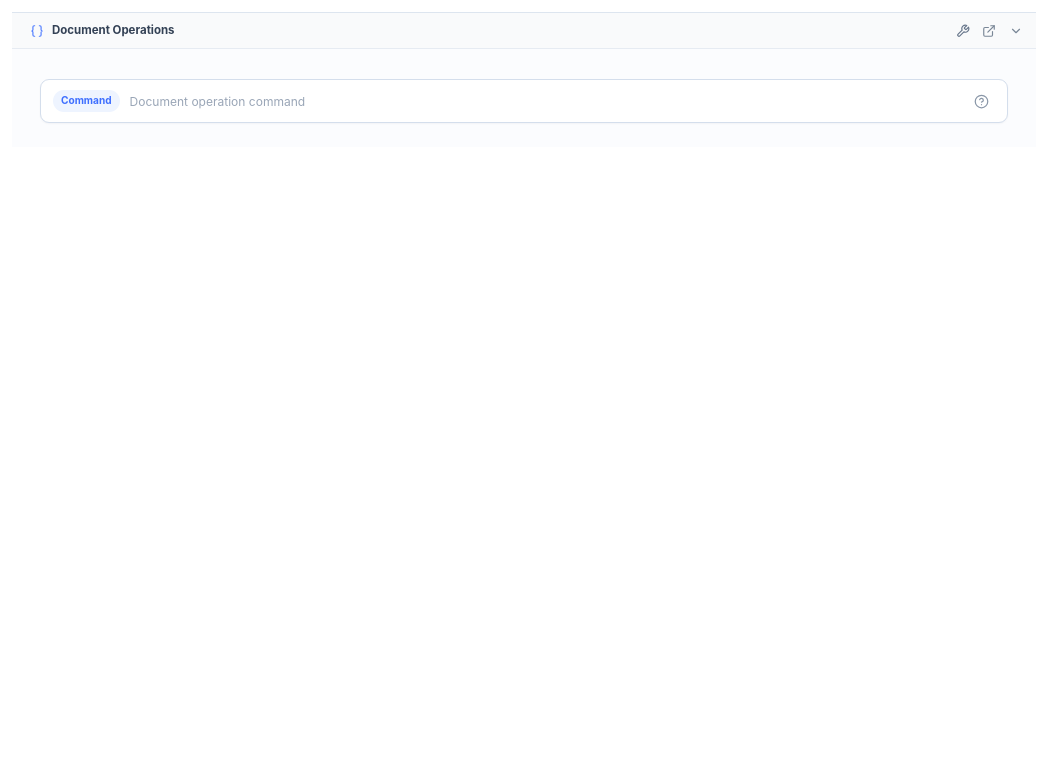
WorkbenchToolPanels › runs document operations from the floating window
This screenshot has width=1048, height=780.
Click the button named "Open as floating window" at (989, 31), box [977,18,1002,43]
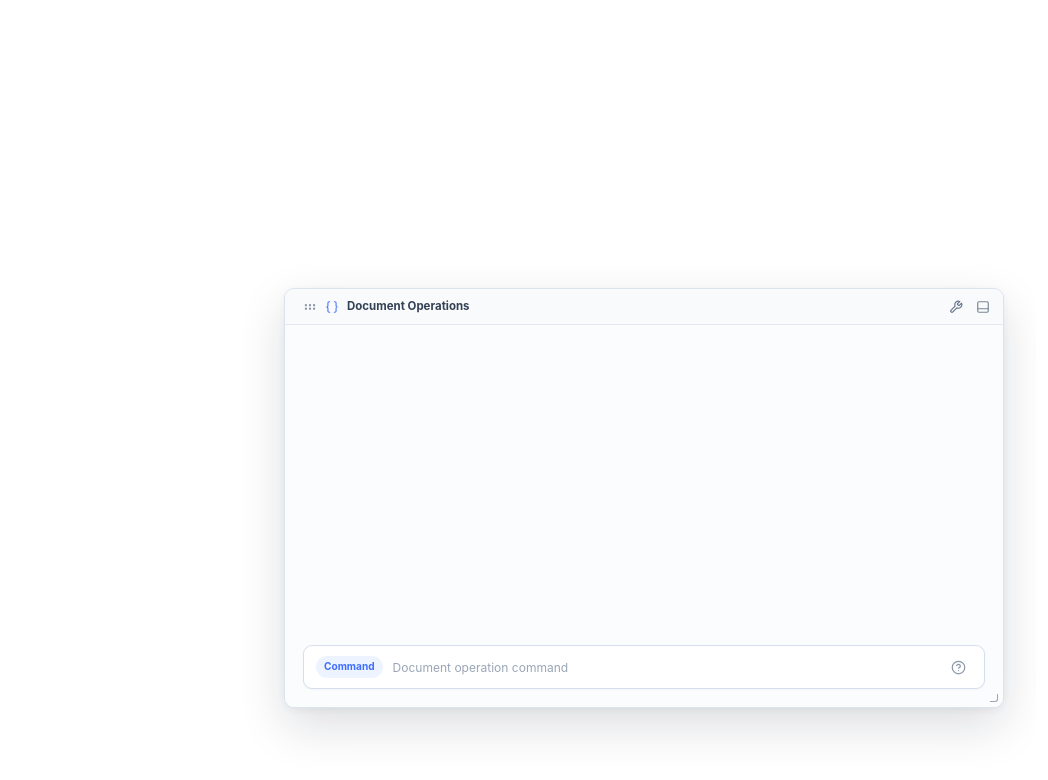
Type "insertBlock after block-1 inserted block" into the field named "Command input" at (663, 667), box [382,646,944,688]
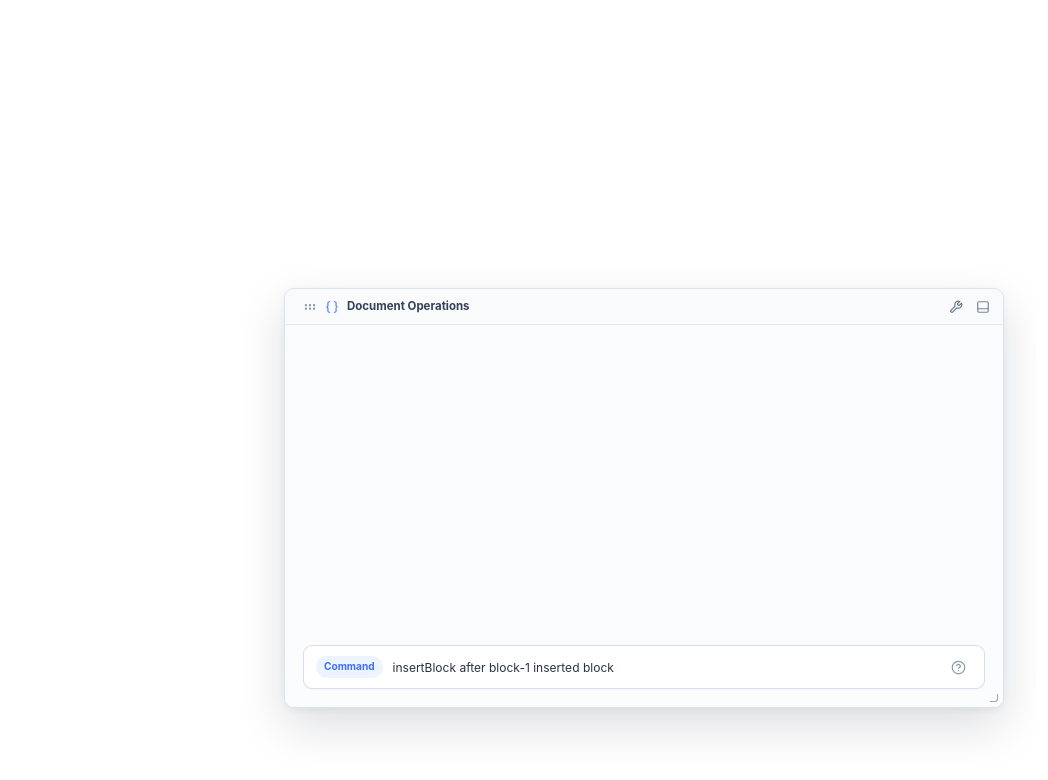
Submit the form named "Command input", box [303,645,985,689]
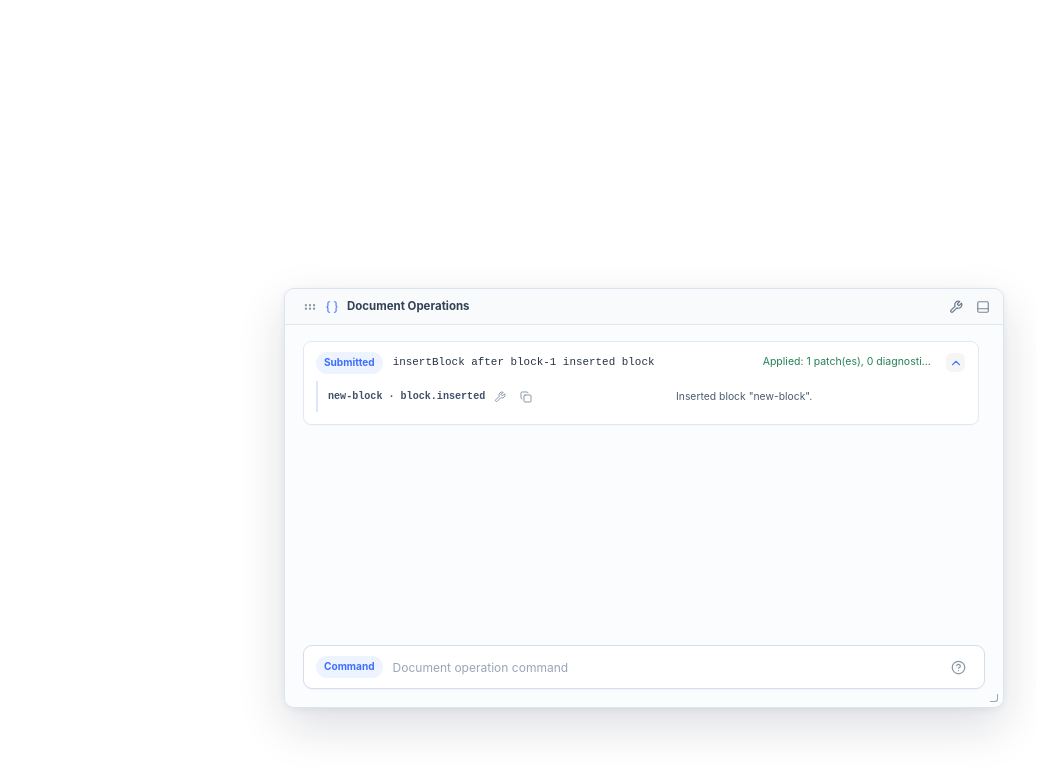
Check: the text "Applied: 1 patch(es), 0 diagnostic(s)." is shown, box [763,355,935,370]
